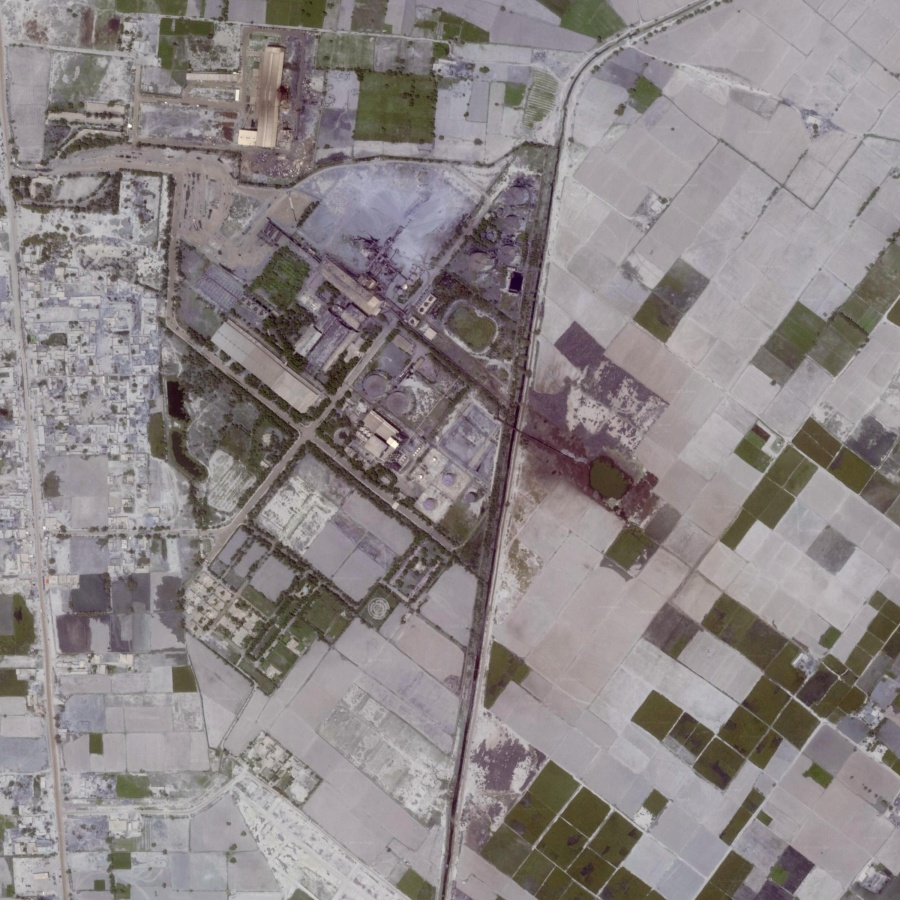PowerPlant: (309, 301, 499, 519)
